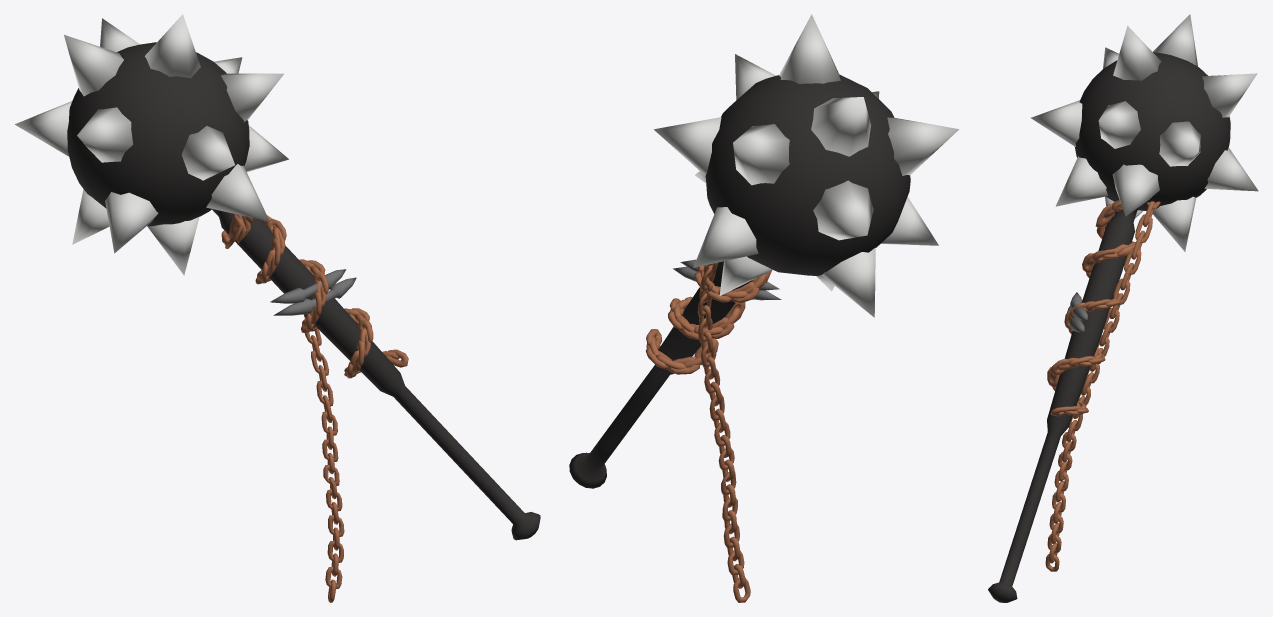
Rendered from Maid'S Battle Flail.fbx.
The picture shows the model from 3 angles, left to right: view 1: azimuth 30°, elevation 25°; view 2: azimuth 150°, elevation 25°; view 3: azimuth 270°, elevation 25°; orthographic projection. The views are drawn at different scales.
Parts seen in each view (by area): view 1: Circle; view 2: Circle; view 3: Circle.
Part boxes in pixels (left/top/right/bottom): Circle: left=15, top=14, right=540, bottom=602; Circle: left=569, top=14, right=959, bottom=602; Circle: left=988, top=14, right=1258, bottom=602.
Size of the model in its own units: 118 by 162 by 79.35.
